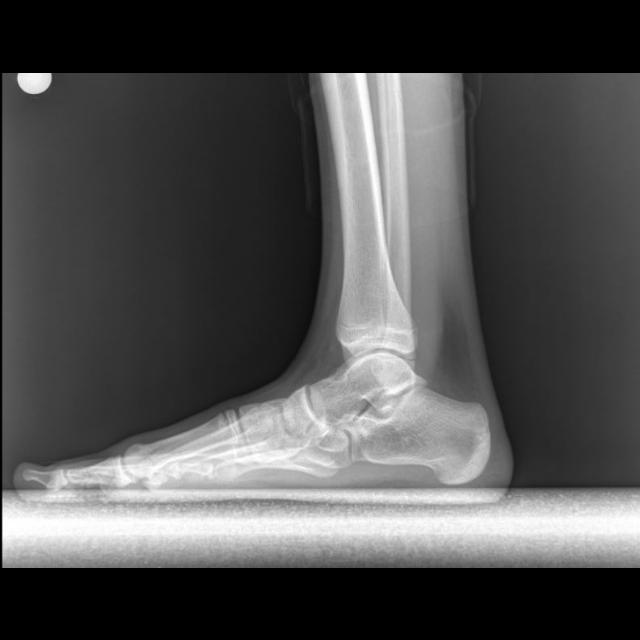a: (348, 384, 491, 486)
b: (280, 382, 330, 438)
c: (121, 407, 248, 476)
